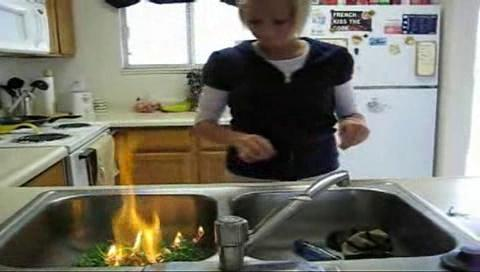fire: (108, 137, 165, 263)
